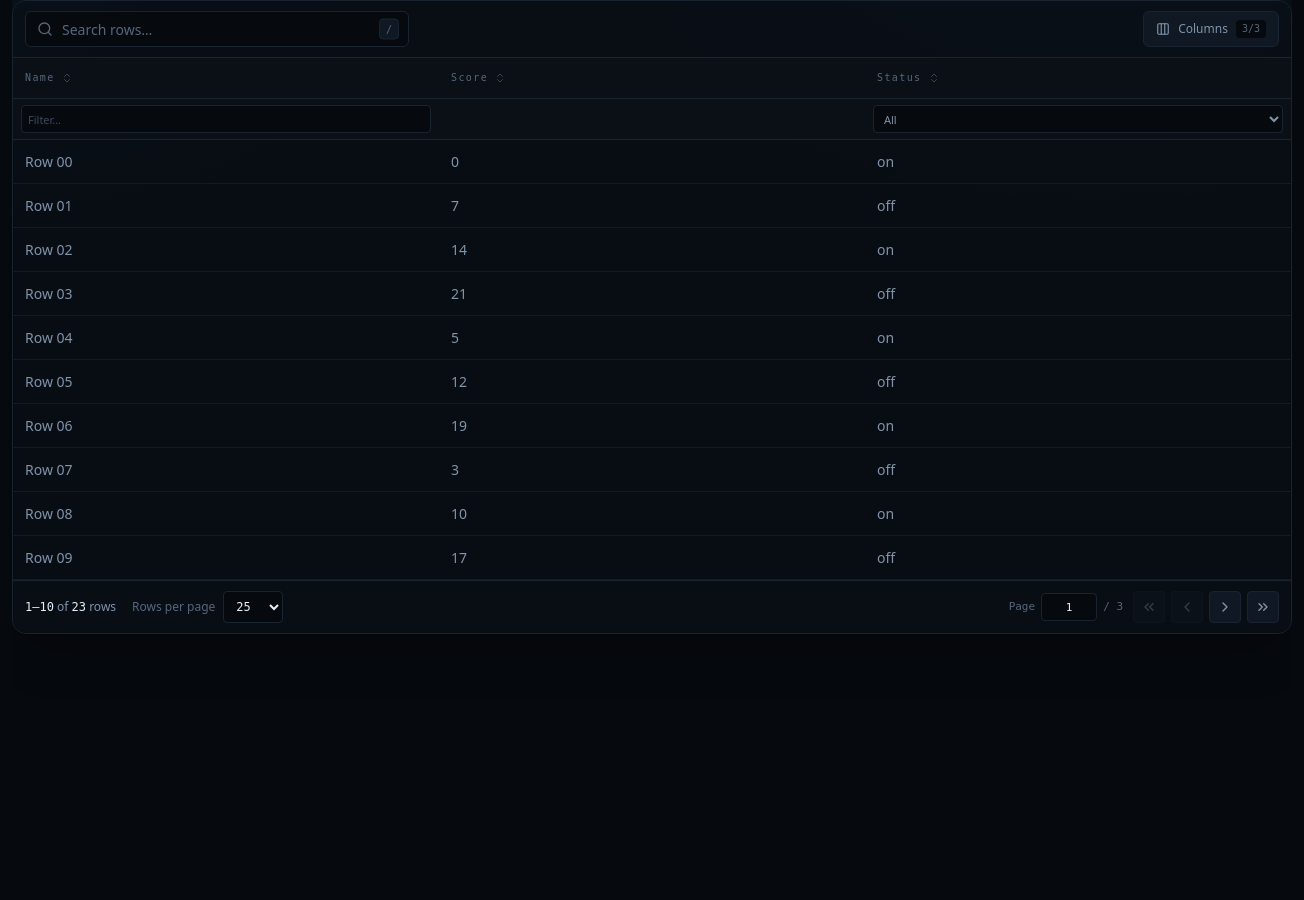
DataGrid › resets both search and filters from the combined no-match state
This screenshot has width=1304, height=900.
Select "On" in the dropdown named "Filter by Status" at (1078, 119), box [873, 105, 1283, 133]
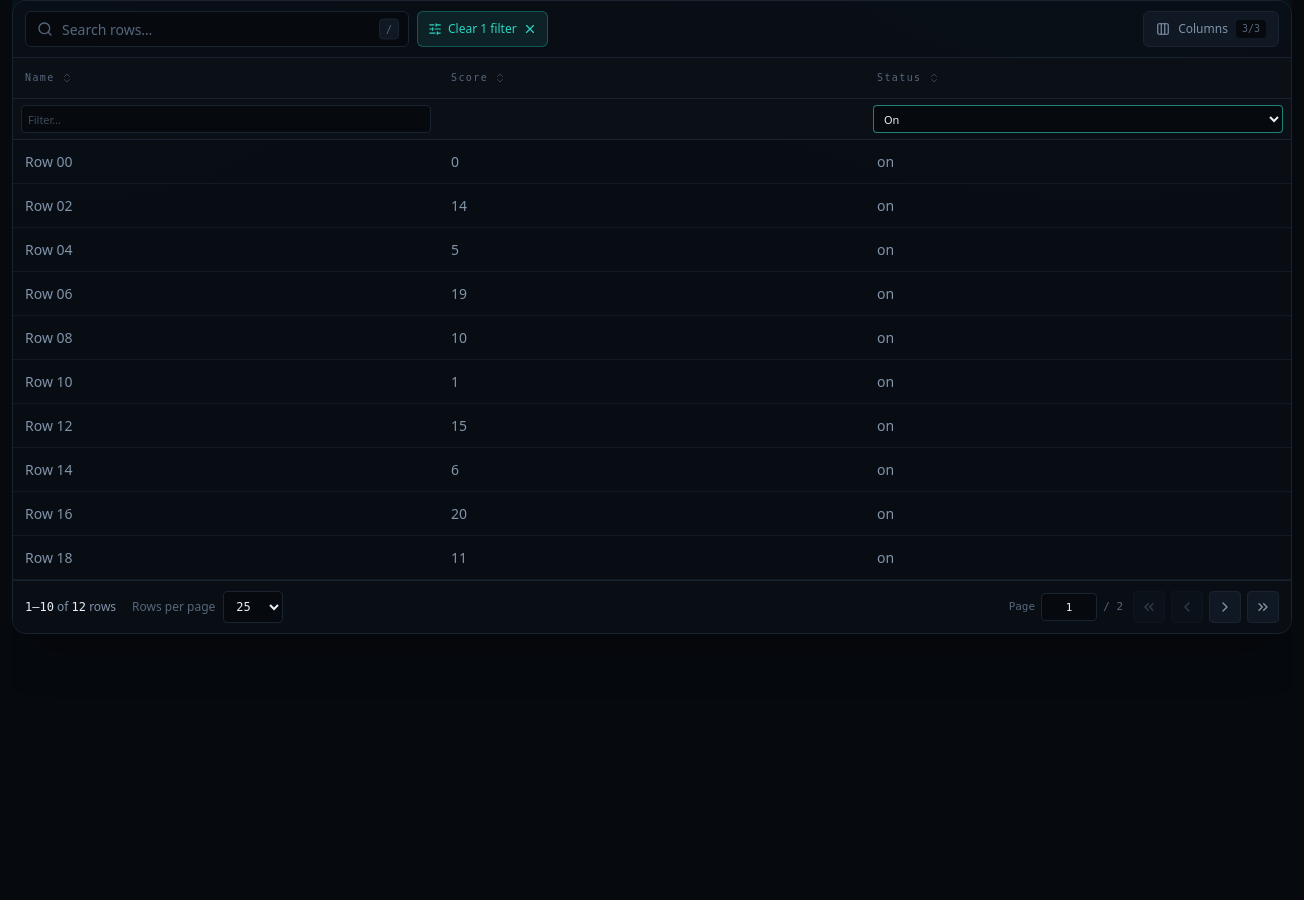
Type "nothing-matches" into the search field named "Search all columns" at (217, 29), box [25, 11, 409, 47]
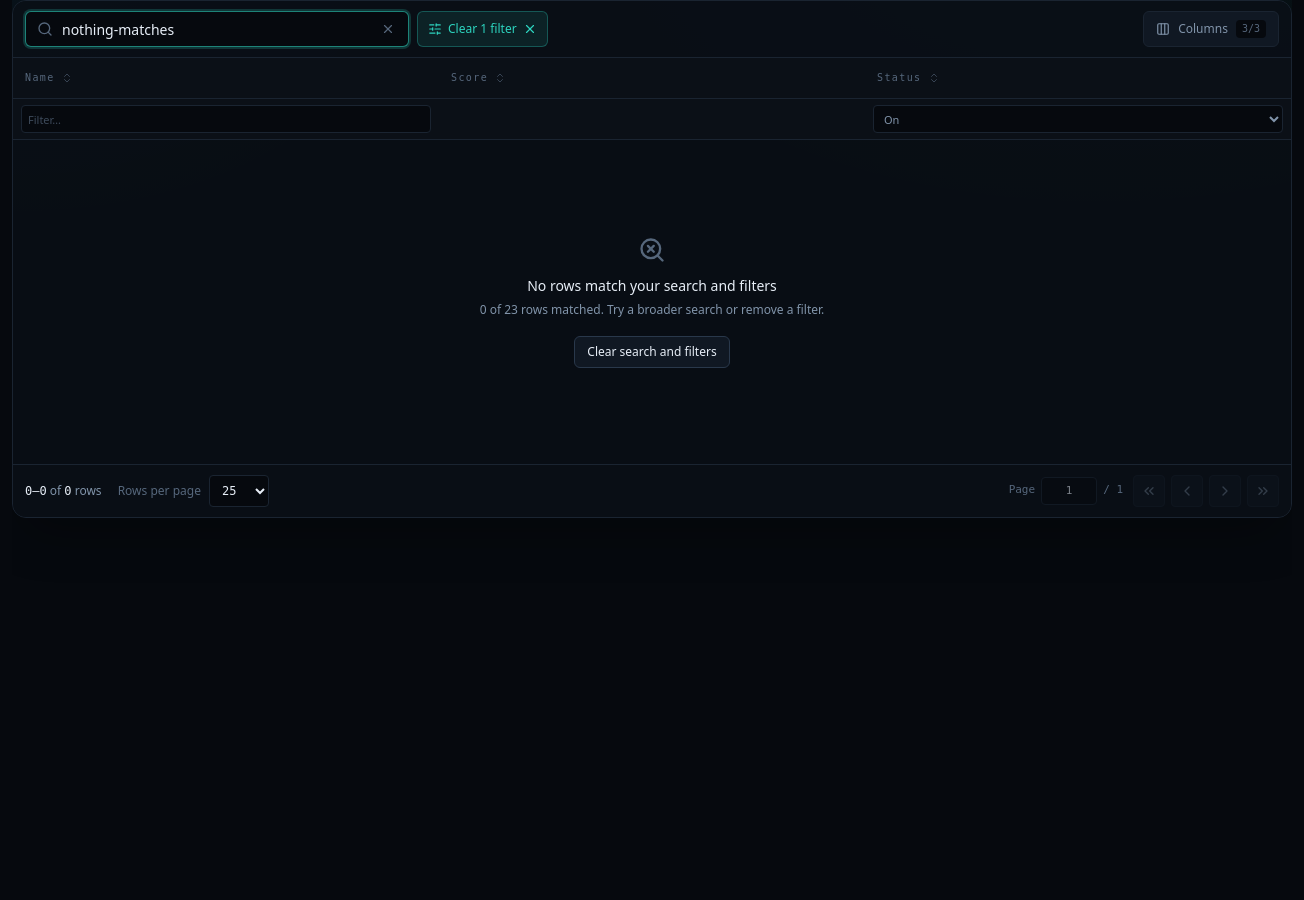
Now the text "No rows match your search and filters" is shown, box [527, 276, 777, 296]
Click the button "Clear search and filters" at (652, 352), box [574, 336, 730, 368]
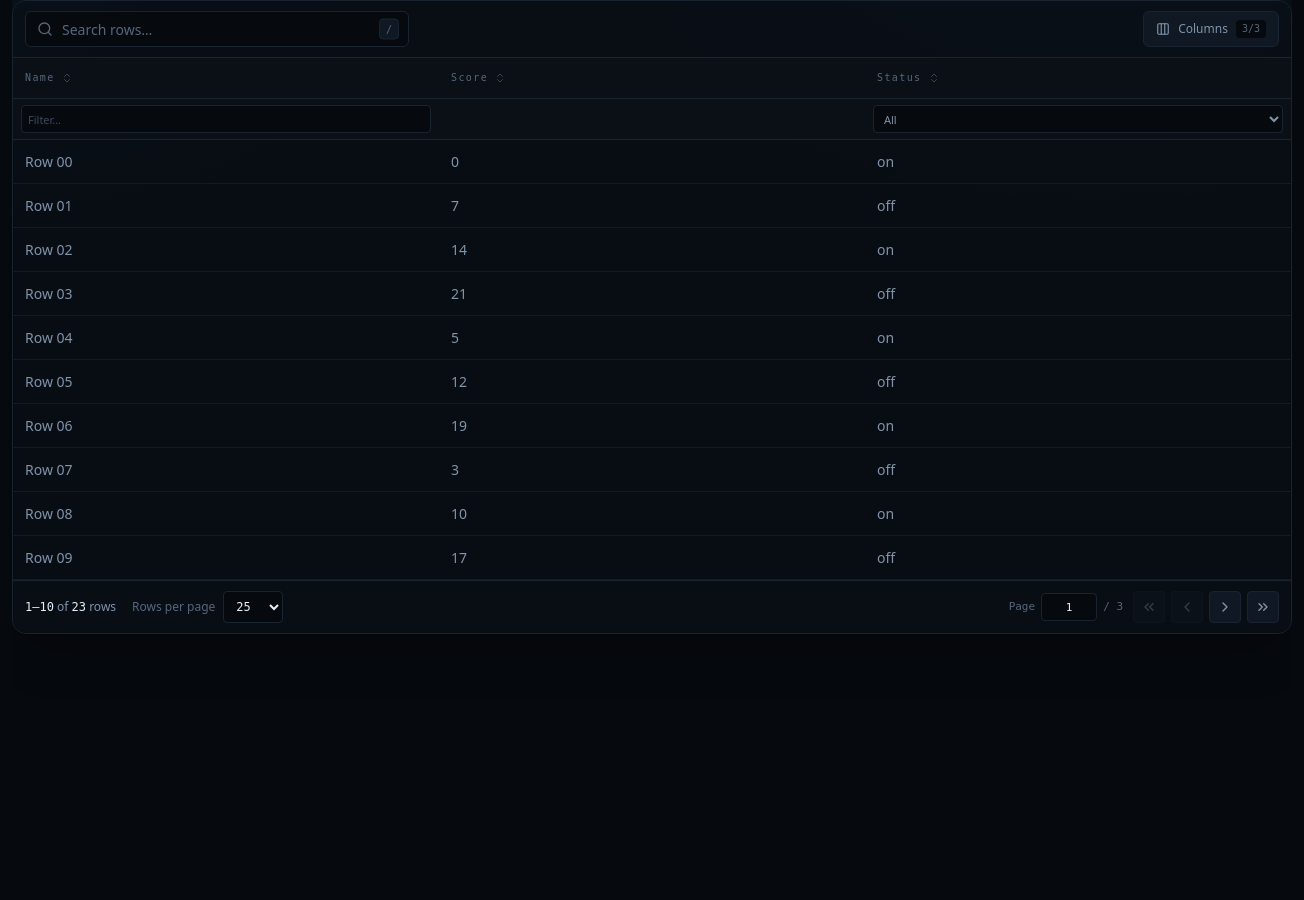
Now the text "Row 00" is shown, box [13, 140, 439, 184]
